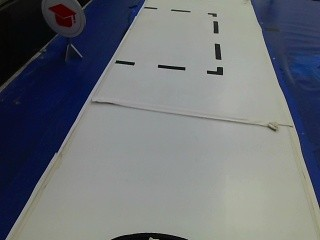school: (42, 0, 84, 37)
